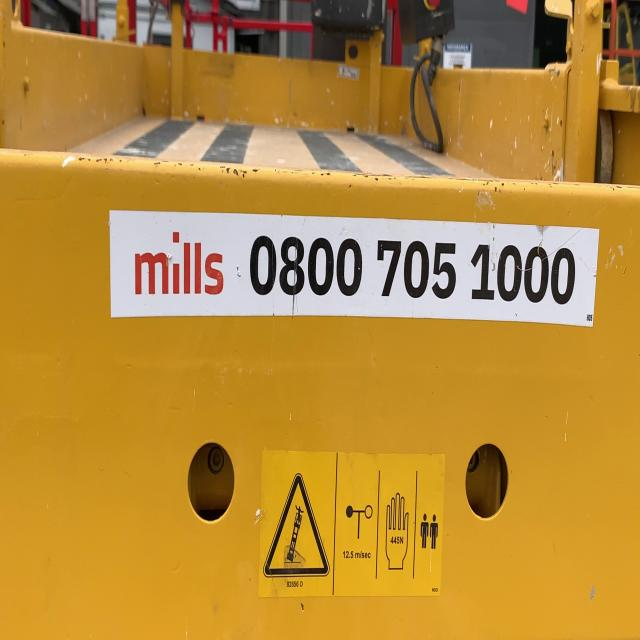Adesivo Longo: (107, 205, 602, 332)
